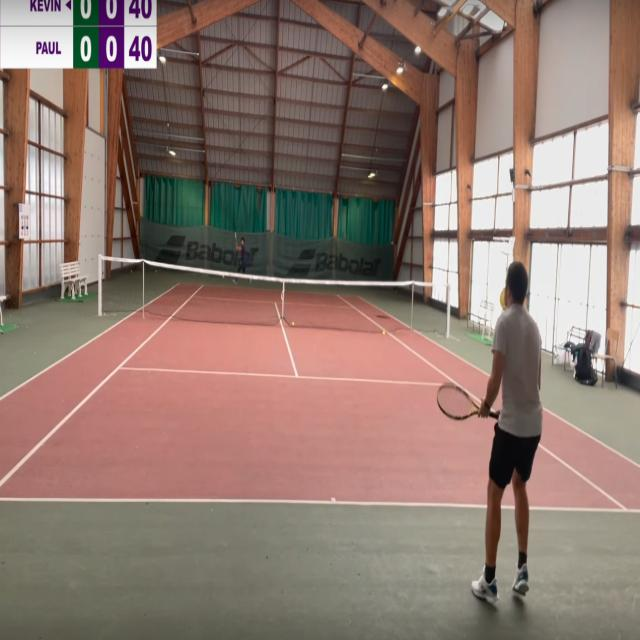ball: (382, 330, 386, 336), (292, 321, 294, 327), (222, 274, 225, 278)
